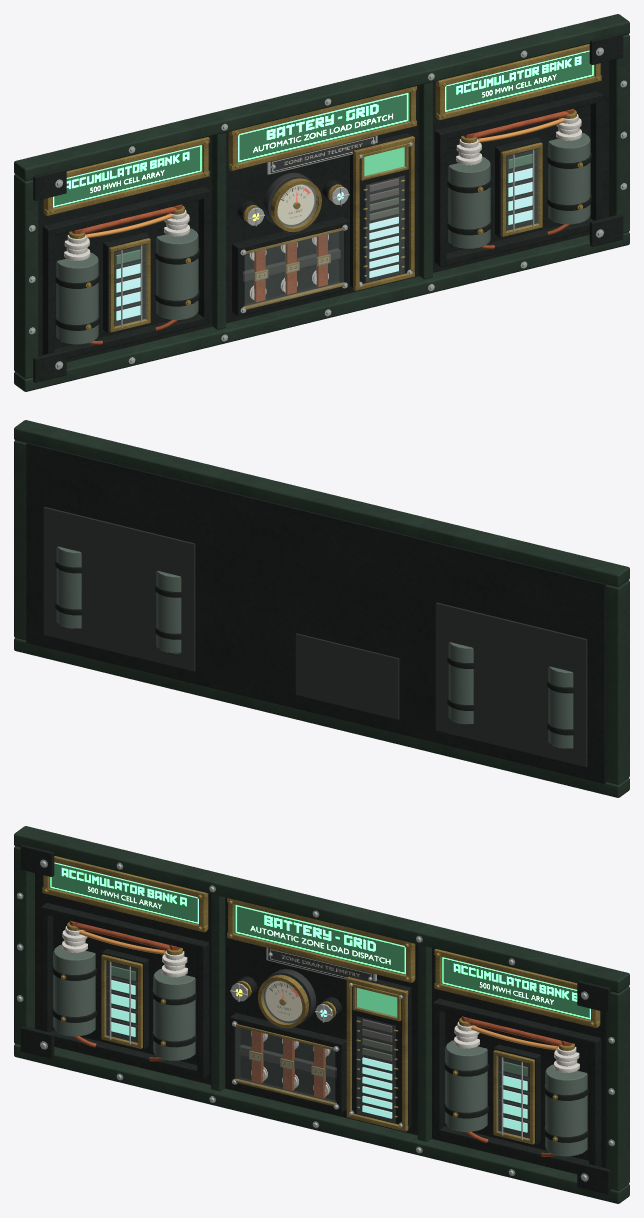
The model's file is battery_grid_panel.glb.
3 renders of one model, top to bottom at view 1: azimuth 30°, elevation 25°; view 2: azimuth 150°, elevation 25°; view 3: azimuth 330°, elevation 25°, orthographic.
Visible parts, largest first — view 1: Base_Backplate, Frame_Top, Frame_Bottom, Bank_A, Bank_B, HV_GlassWindow, Plaque_Center, Frame_Left, MW_Housing, Plaque_BankB, Plaque_BankA, MW_Column_Glass (+41 smaller); view 2: Base_Backplate, Bank_A_WellBack, Bank_B_WellBack, Frame_Top, Frame_Bottom, HV_Window_Recess, Frame_Left, Bank_B, Bank_A, Frame_Right; view 3: Base_Backplate, Frame_Top, Frame_Bottom, Bank_B, Bank_A, HV_GlassWindow, Plaque_Center, Frame_Right, MW_Housing, Plaque_BankA, Plaque_BankB, MW_Column_Glass (+42 smaller).
Part boxes in pixels (bbox=[...]): Base_Backplate: bbox=[38, 61, 608, 362]; Frame_Top: bbox=[14, 14, 629, 181]; Frame_Bottom: bbox=[14, 232, 629, 391]; Bank_A: bbox=[56, 204, 198, 344]; Bank_B: bbox=[448, 108, 590, 249]; HV_GlassWindow: bbox=[245, 229, 343, 308]; Plaque_Center: bbox=[237, 92, 409, 162]; Frame_Left: bbox=[14, 174, 38, 378]; MW_Housing: bbox=[350, 133, 411, 287]; Plaque_BankB: bbox=[445, 50, 594, 112]; Plaque_BankA: bbox=[53, 145, 202, 208]; MW_Column_Glass: bbox=[366, 176, 403, 281]; Base_Backplate: bbox=[26, 442, 606, 783]; Bank_A_WellBack: bbox=[435, 602, 587, 767]; Bank_B_WellBack: bbox=[43, 507, 195, 671]; Frame_Top: bbox=[14, 420, 629, 587]; Frame_Bottom: bbox=[14, 638, 629, 797]; HV_Window_Recess: bbox=[295, 633, 399, 719]; Frame_Left: bbox=[606, 580, 629, 784]; Bank_B: bbox=[56, 546, 181, 653]; Bank_A: bbox=[448, 642, 573, 748]; Frame_Right: bbox=[14, 440, 26, 640]; Base_Backplate: bbox=[35, 873, 605, 1174]; Frame_Top: bbox=[14, 826, 629, 993]; Frame_Bottom: bbox=[14, 1044, 629, 1203]; Bank_B: bbox=[445, 1016, 587, 1156]; Bank_A: bbox=[53, 920, 195, 1061]; HV_GlassWindow: bbox=[236, 1027, 334, 1104]; Plaque_Center: bbox=[234, 904, 406, 974]; Frame_Right: bbox=[605, 986, 629, 1190]; MW_Housing: bbox=[350, 976, 411, 1128]; Plaque_BankA: bbox=[49, 862, 198, 924]; Plaque_BankB: bbox=[441, 957, 590, 1020]; MW_Column_Glass: bbox=[357, 1017, 395, 1122].
Size of the model in its own units: 1.36 by 0.48 by 0.0943.
37 materials, 7 textured.
